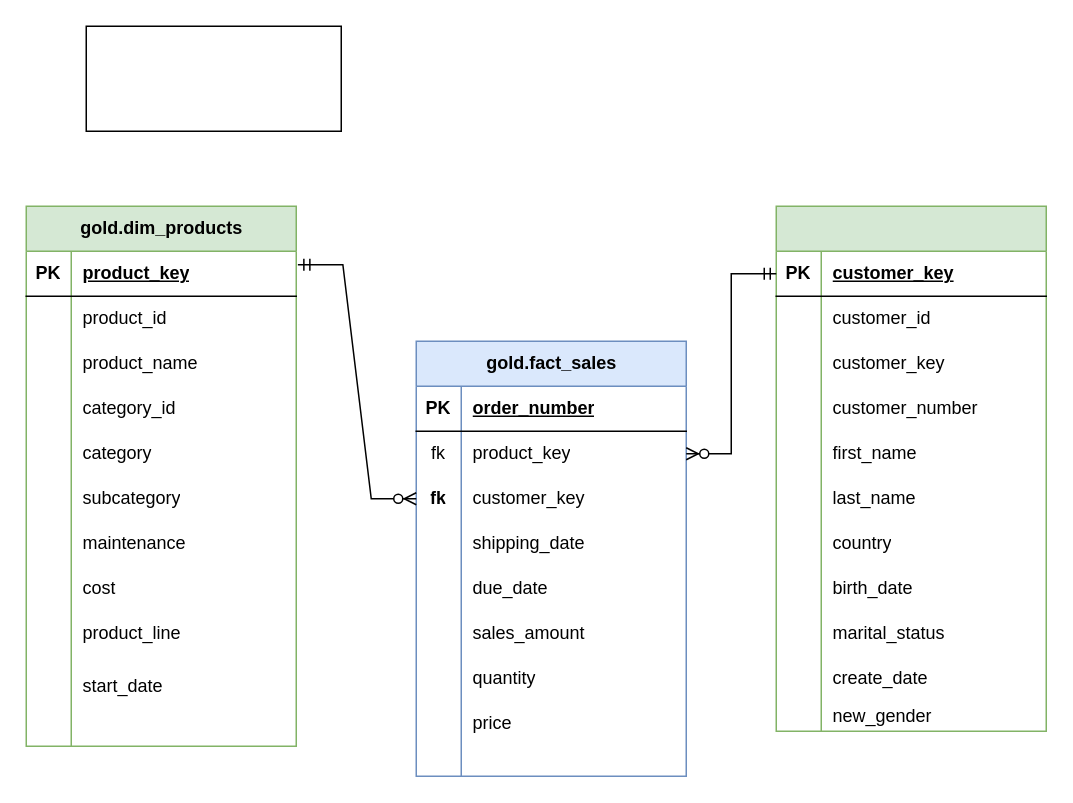
The diagram is 1073 pixels wide and 803 high, and some of its shapes have lost their labels. The shapes that lost their labels are listed below. From the top down, each one's box as (x1, y1, x2, y2) in pixels, then its label:
(85, 25, 341, 131): Star Schema
(775, 205, 1046, 731): gold.dim_customers
